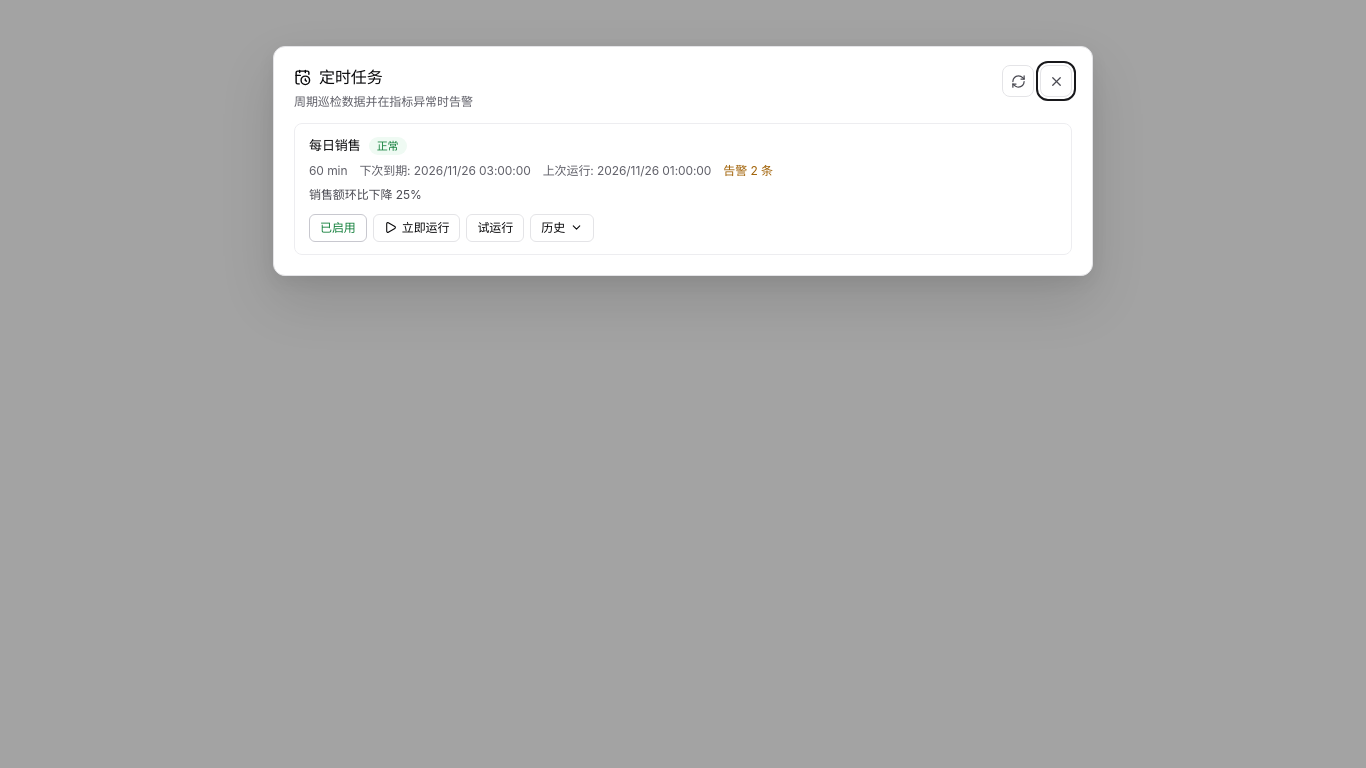
Scenario: SchedulePanel › 运行返回 409 时提示任务正在运行
This screenshot has width=1366, height=768.
expect the text "每日销售" is shown: met, box [309,136,361,156]
What coordinates should you click on to do the following:
click the button "立即运行"
I would click on:
 (417, 228)
Its box is [373,214,460,242].
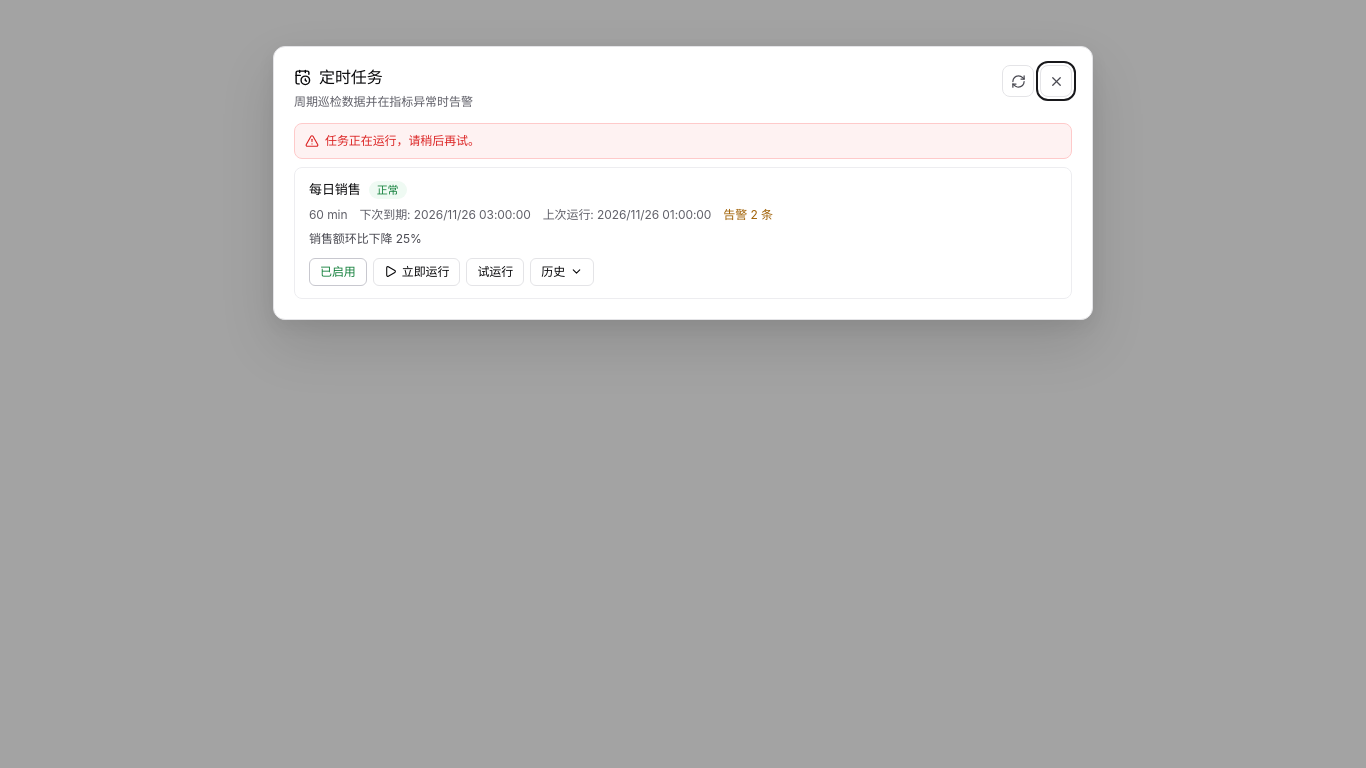
expect the message reads "任务正在运行，请稍后再试。": met, box [325,133,480,148]
